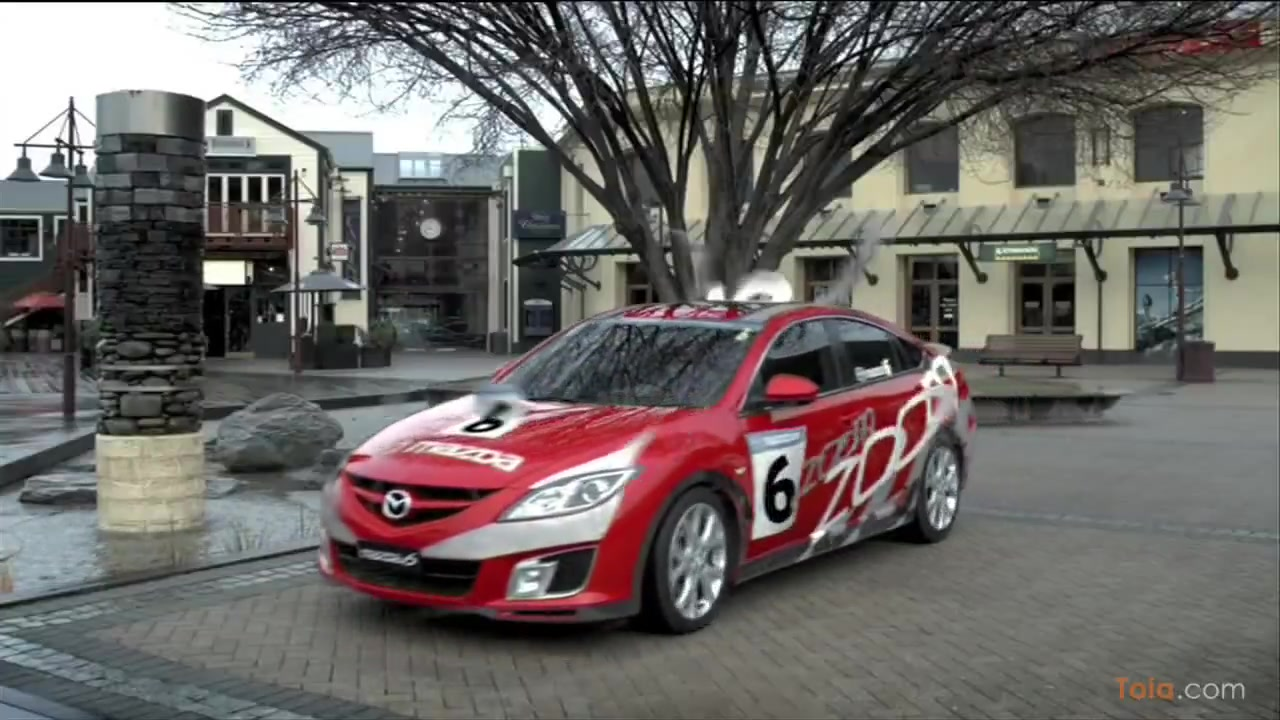car: (308, 298, 978, 635)
